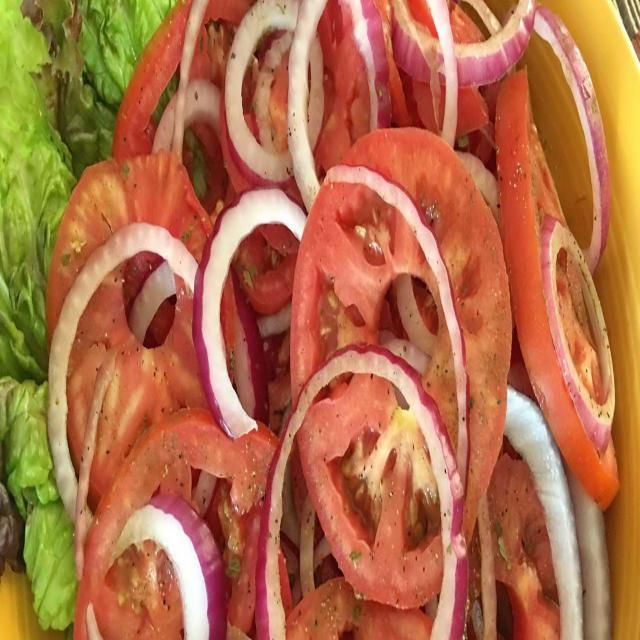Tomato: (292, 125, 520, 603)
